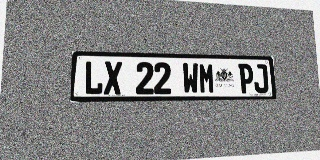2: (136, 62, 153, 94), (154, 62, 171, 94)
J: (253, 64, 269, 93)
L: (84, 61, 103, 95)
M: (199, 63, 215, 94)
P: (238, 64, 254, 93)
W: (182, 63, 199, 94)
X: (104, 61, 122, 95)
